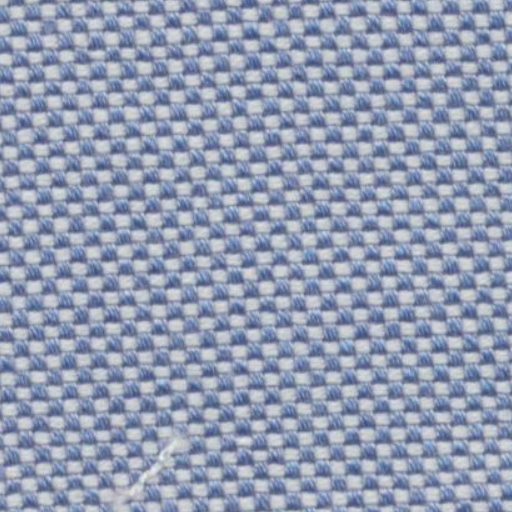DuanSha: (120, 422, 200, 500)
